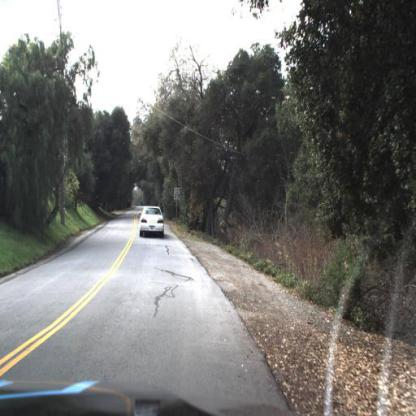car: (138, 206, 170, 245)
